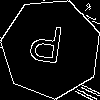P: (26, 23, 65, 73)
